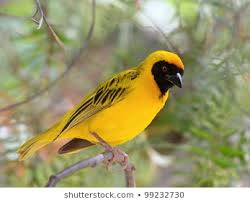target: (19, 46, 185, 171)
